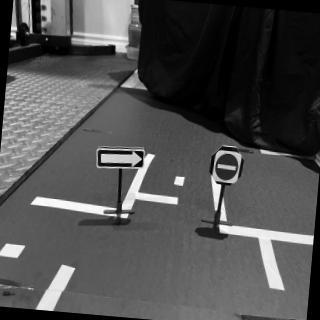sign_noentry: (212, 150, 243, 188)
sign_oneway_right: (96, 145, 147, 174)
